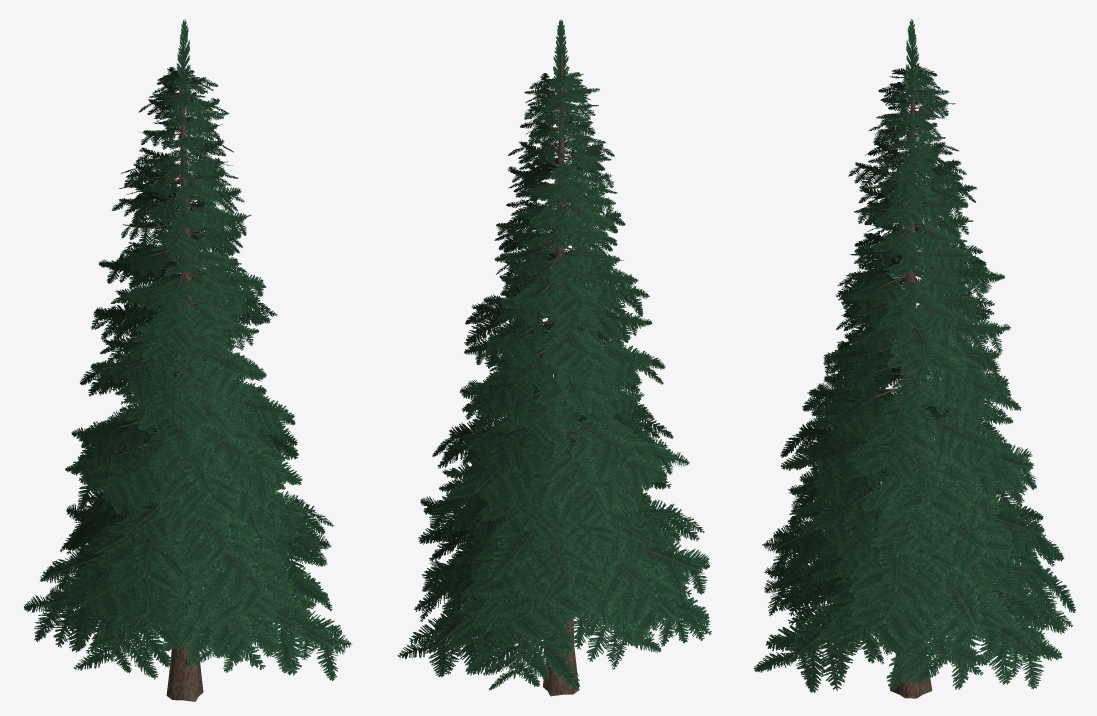
File: spruce_tall_01.glb
The picture shows the model from 3 angles, left to right: view 1: azimuth 30°, elevation 25°; view 2: azimuth 150°, elevation 25°; view 3: azimuth 270°, elevation 25°; orthographic projection.
Parts seen in each view (by area): view 1: spruce_tall_01; view 2: spruce_tall_01; view 3: spruce_tall_01.
Boxes of the visible parts, x1,y1,x2,y2 form: spruce_tall_01: (23,19,352,701); spruce_tall_01: (397,19,711,696); spruce_tall_01: (753,19,1075,698).
Size of the model in its own units: 8.35 by 17.68 by 7.98.
3 materials, 3 textured.
